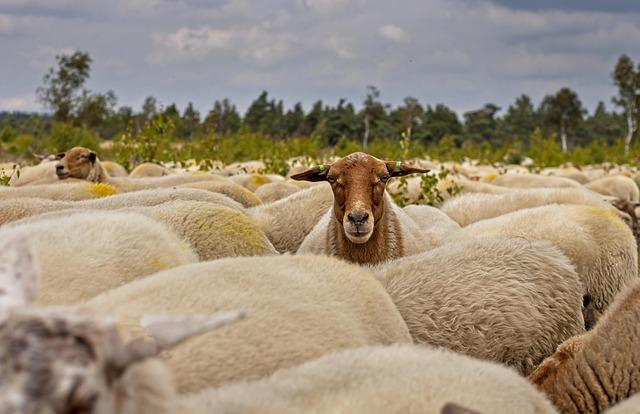Non_Gorille: (39, 29, 600, 401)
